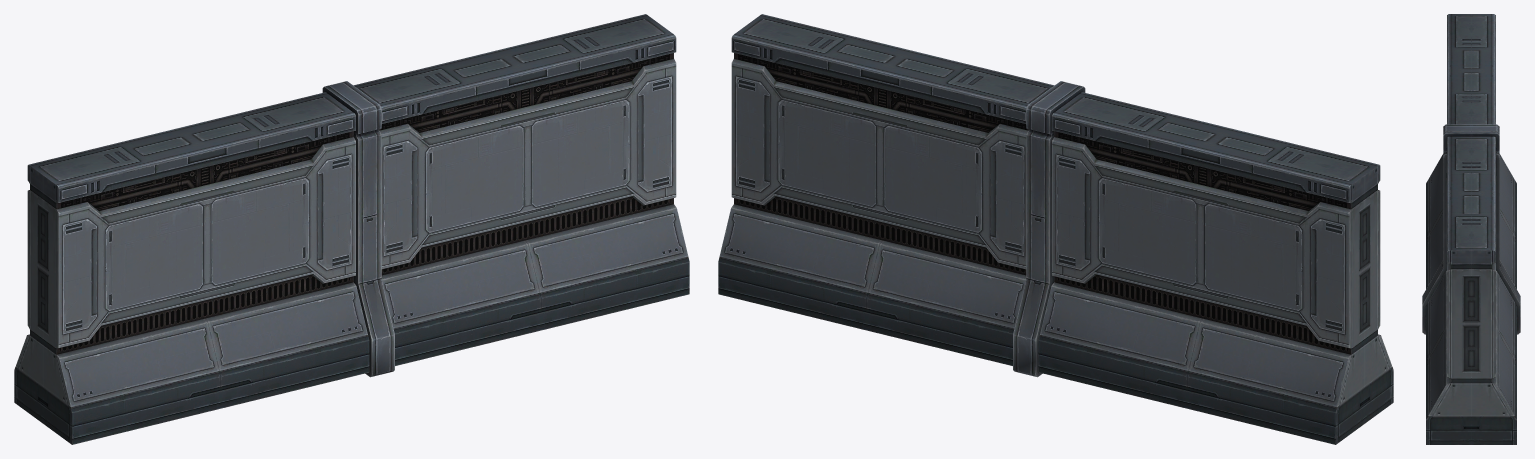
Rendered from all_wallset_imperial_containment_wall_16.glb.
3 views of the same model, side by side, from view 1: azimuth 30°, elevation 25°; view 2: azimuth 150°, elevation 25°; view 3: azimuth 270°, elevation 25° (orthographic). The views are drawn at different scales.
Parts seen in each view (by area): view 1: all_wallset_imperial_containment_wall_16; view 2: all_wallset_imperial_containment_wall_16; view 3: all_wallset_imperial_containment_wall_16.
Part boxes in pixels (bbox=[...]): all_wallset_imperial_containment_wall_16: bbox=[14, 14, 689, 444]; all_wallset_imperial_containment_wall_16: bbox=[718, 14, 1393, 444]; all_wallset_imperial_containment_wall_16: bbox=[1422, 14, 1520, 444].
Size of the model in its own units: 1.6 by 0.6362 by 0.2812.
1 material, 1 textured.
